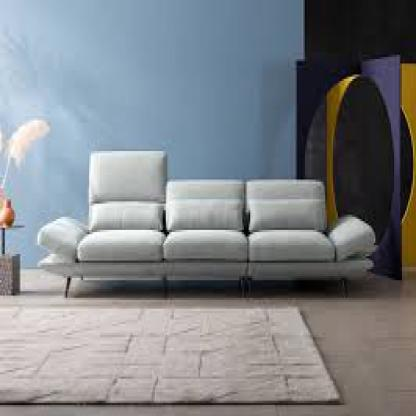sofa: (39, 151, 372, 309)
